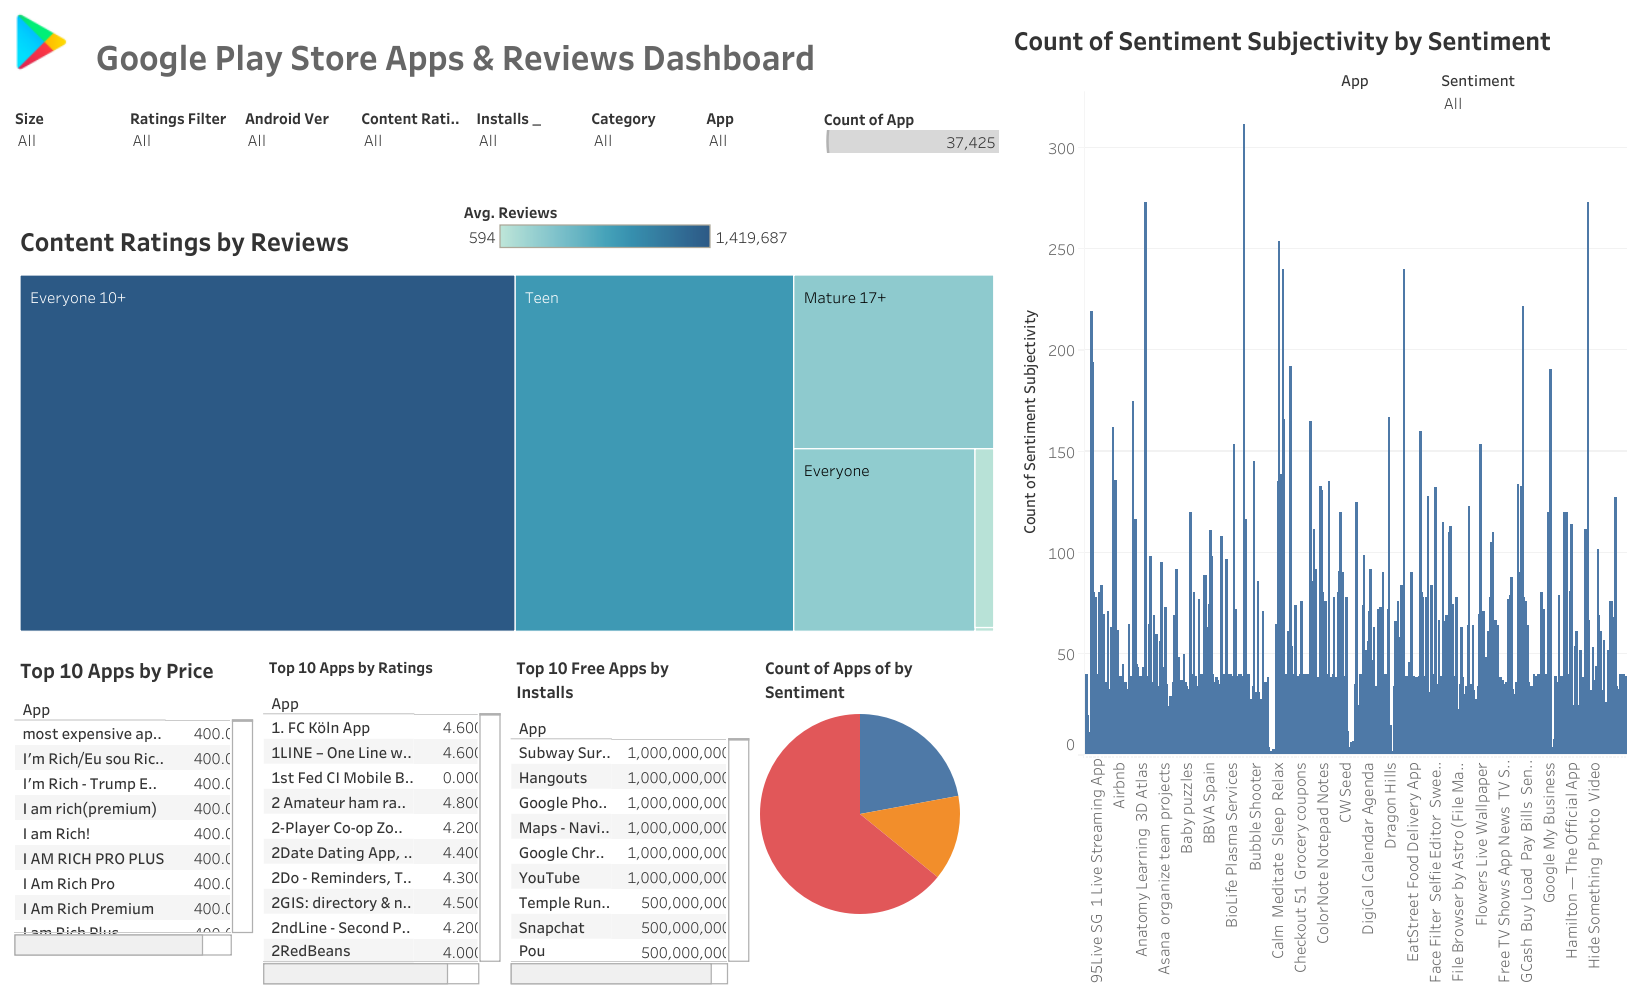

The page's visual inventory and layout, read from the dashboard file:
{"tool":"tableau","page":{"name":"Dashboard 1","canvas":[1000,1000],"units":"permille","ordinal":0},"visuals":[{"type":"text","box":[5.2,9.4,606.4,84.6]},{"type":"worksheet","title":"Count of Sentiment Subjectivity by Sentiment","mark":"Automatic","rows":["Sentiment_Subjectivity"],"cols":["App"],"box":[611.6,9.4,383.3,981.2]},{"type":"image","param":"Image/google_app_image.jpg","box":[0,10.6,69,79.9]},{"type":"filter","title":"Count of Sentiment Subjectivity by Sentiment","param":"[federated.1vdk42i1cwyb7s19oybgw09z24dz].[none:Sentiment:nk]","box":[877.8,67.5,111.5,76.2]},{"type":"filter","title":"Content Ratings by Reviews","param":"[federated.1lwajbi00zlf4x167ou6f1mgu55e].[none:Size:nk]","box":[5.2,94,72.8,104.6]},{"type":"filter","title":"Content Ratings by Reviews","param":"[federated.1lwajbi00zlf4x167ou6f1mgu55e].[none:Rating (copy)_190277138576994305:","box":[78,94,72.8,104.6]},{"type":"filter","title":"Content Ratings by Reviews","param":"[federated.1lwajbi00zlf4x167ou6f1mgu55e].[none:Android Ver:nk]","box":[150.8,94,72.8,104.6]},{"type":"filter","title":"Content Ratings by Reviews","param":"[federated.1lwajbi00zlf4x167ou6f1mgu55e].[none:Content Rating:nk]","box":[223.6,94,72.8,104.6]},{"type":"filter","title":"Content Ratings by Reviews","param":"[federated.1lwajbi00zlf4x167ou6f1mgu55e].[none:Installs (copy)_19027713857018675","box":[296.4,94,72.8,104.6]},{"type":"filter","title":"Content Ratings by Reviews","param":"[federated.1lwajbi00zlf4x167ou6f1mgu55e].[none:Category:nk]","box":[369.2,94,72.8,104.6]},{"type":"filter","title":"Content Ratings by Reviews","param":"[federated.1lwajbi00zlf4x167ou6f1mgu55e].[none:App:nk]","box":[442.1,94,72.8,104.6]},{"type":"legend","title":"Count of Apps of by Sentiment","param":"[federated.1vdk42i1cwyb7s19oybgw09z24dz].[cnt:App:qk]","box":[514.9,94,96.7,104.6]},{"type":"legend","title":"Content Ratings by Reviews","param":"[federated.1lwajbi00zlf4x167ou6f1mgu55e].[avg:Reviews:qk]","box":[282.9,195,200.5,82.5]},{"type":"worksheet","title":"Content Ratings by Reviews","mark":"Automatic","box":[5.2,198.6,606.4,444.1]},{"type":"worksheet","title":"Top 10 Apps by Price","mark":"Automatic","rows":["App"],"box":[5.2,642.7,151.6,347.9]},{"type":"worksheet","title":"Top 10 Apps by Ratings","mark":"Automatic","rows":["App"],"box":[156.8,642.7,151.6,347.9]},{"type":"worksheet","title":"Top 10 Free Apps by Installs","mark":"Automatic","rows":["App"],"box":[308.4,642.7,151.6,347.9]},{"type":"worksheet","title":"Count of Apps of by Sentiment","mark":"Pie","box":[460,642.7,151.6,347.9]}]}

Visuals, with their boxes on the dashboard's canvas, which has no fixed pixel size, in thousandths of its width and height (x1, y1, x2, y2). These are canvas units, not pixel positions in the 1640x999 screenshot, which may show the page scaled, cropped or inside an application window:
text: x1=5 y1=9 x2=612 y2=94
"Count of Sentiment Subjectivity by Sentiment" worksheet: x1=612 y1=9 x2=995 y2=991
image: x1=0 y1=11 x2=69 y2=90
"Count of Sentiment Subjectivity by Sentiment" filter: x1=878 y1=68 x2=989 y2=144
"Content Ratings by Reviews" filter: x1=5 y1=94 x2=78 y2=199
"Content Ratings by Reviews" filter: x1=78 y1=94 x2=151 y2=199
"Content Ratings by Reviews" filter: x1=151 y1=94 x2=224 y2=199
"Content Ratings by Reviews" filter: x1=224 y1=94 x2=296 y2=199
"Content Ratings by Reviews" filter: x1=296 y1=94 x2=369 y2=199
"Content Ratings by Reviews" filter: x1=369 y1=94 x2=442 y2=199
"Content Ratings by Reviews" filter: x1=442 y1=94 x2=515 y2=199
"Count of Apps of by Sentiment" legend: x1=515 y1=94 x2=612 y2=199
"Content Ratings by Reviews" legend: x1=283 y1=195 x2=483 y2=278
"Content Ratings by Reviews" worksheet: x1=5 y1=199 x2=612 y2=643
"Top 10 Apps by Price" worksheet: x1=5 y1=643 x2=157 y2=991
"Top 10 Apps by Ratings" worksheet: x1=157 y1=643 x2=308 y2=991
"Top 10 Free Apps by Installs" worksheet: x1=308 y1=643 x2=460 y2=991
"Count of Apps of by Sentiment" worksheet (Pie marks): x1=460 y1=643 x2=612 y2=991
